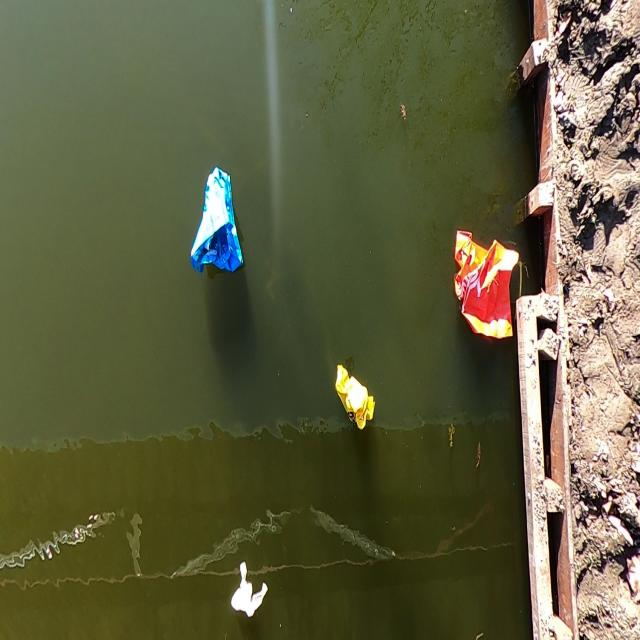Sac plastique: (180, 158, 252, 284), (451, 224, 517, 351), (330, 356, 382, 438), (223, 558, 272, 631)
